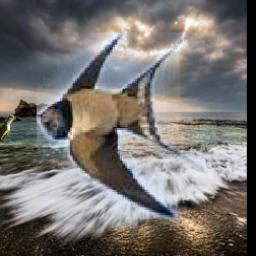Cuckoo: (0, 114, 15, 155)
Swallow: (36, 33, 203, 219)
